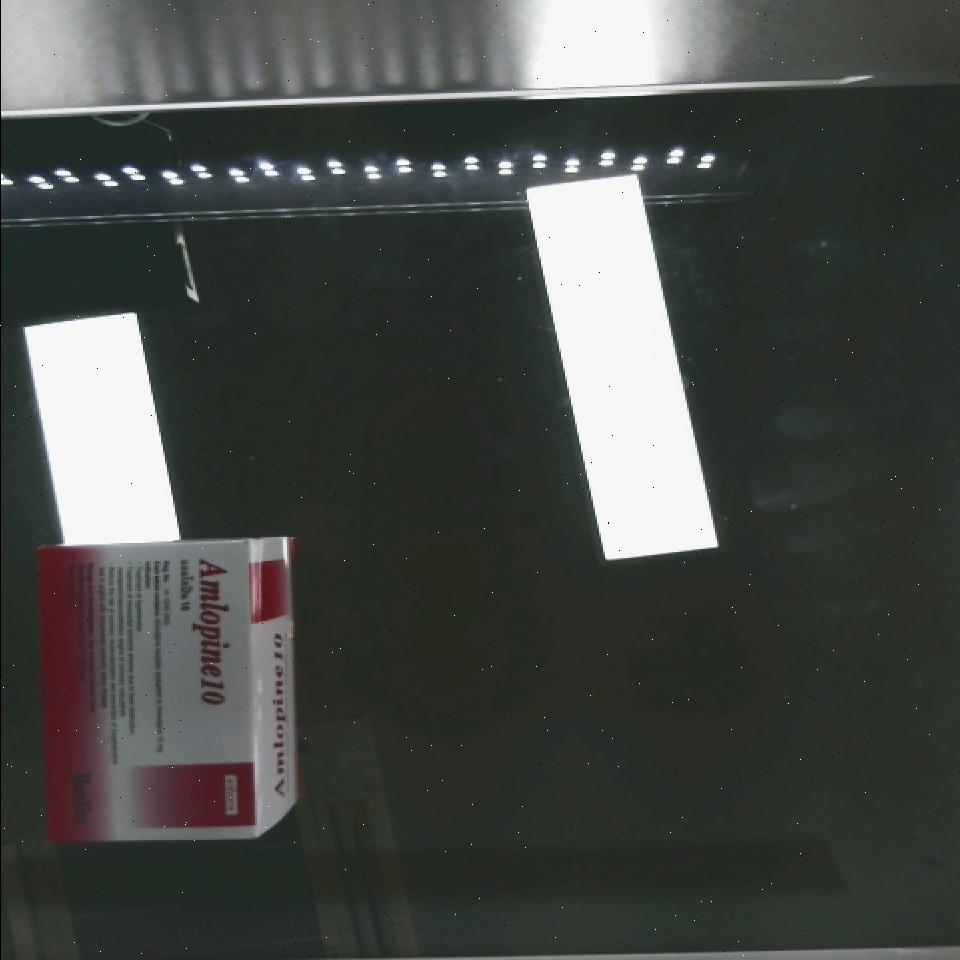medicine_box: (36, 539, 254, 840)
medicine_label_obb: (180, 542, 246, 724)
